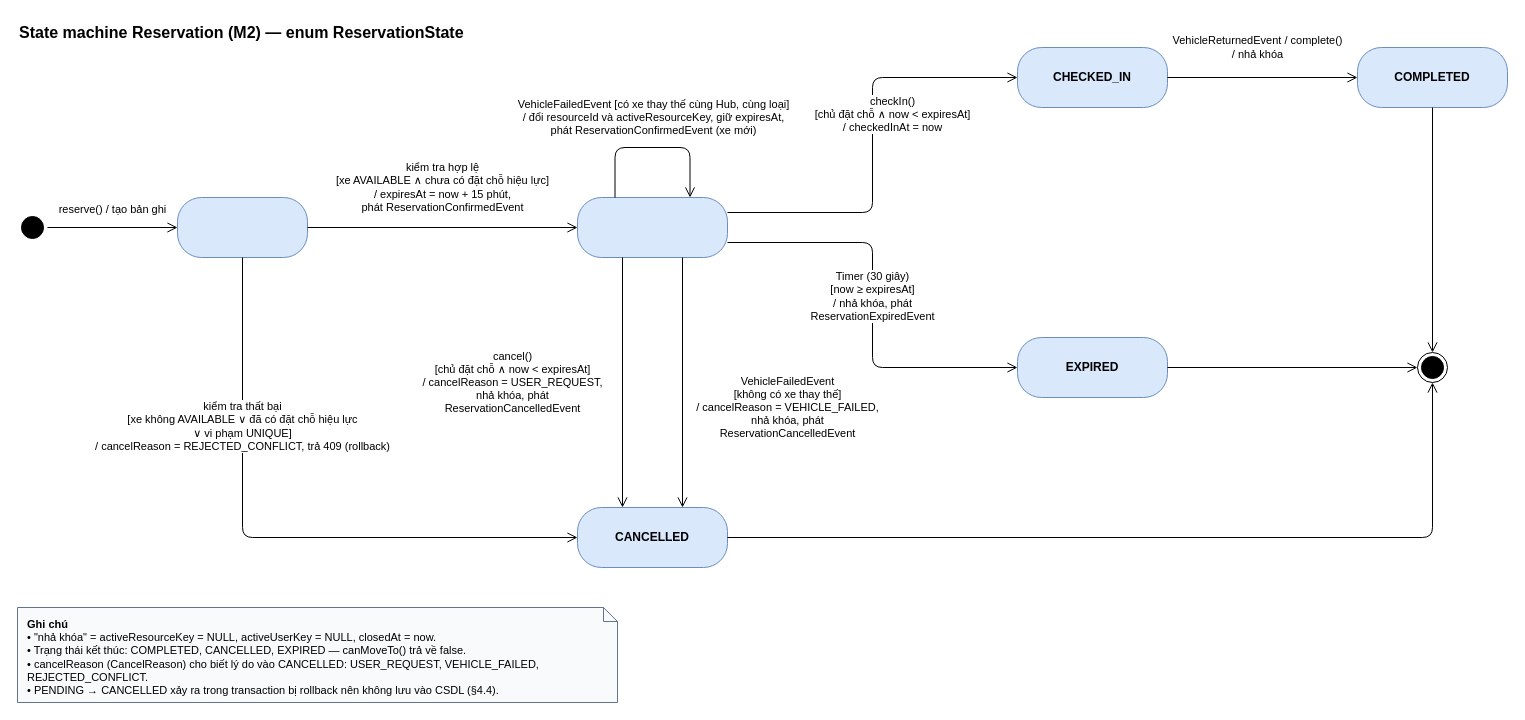
Image size: 1525x720. Some labels were removed from this diagram. Here are the shapes that lost their labels. From the top down, the box of each, then its label:
(176, 196, 308, 258): PENDING
(576, 196, 728, 258): CONFIRMED
